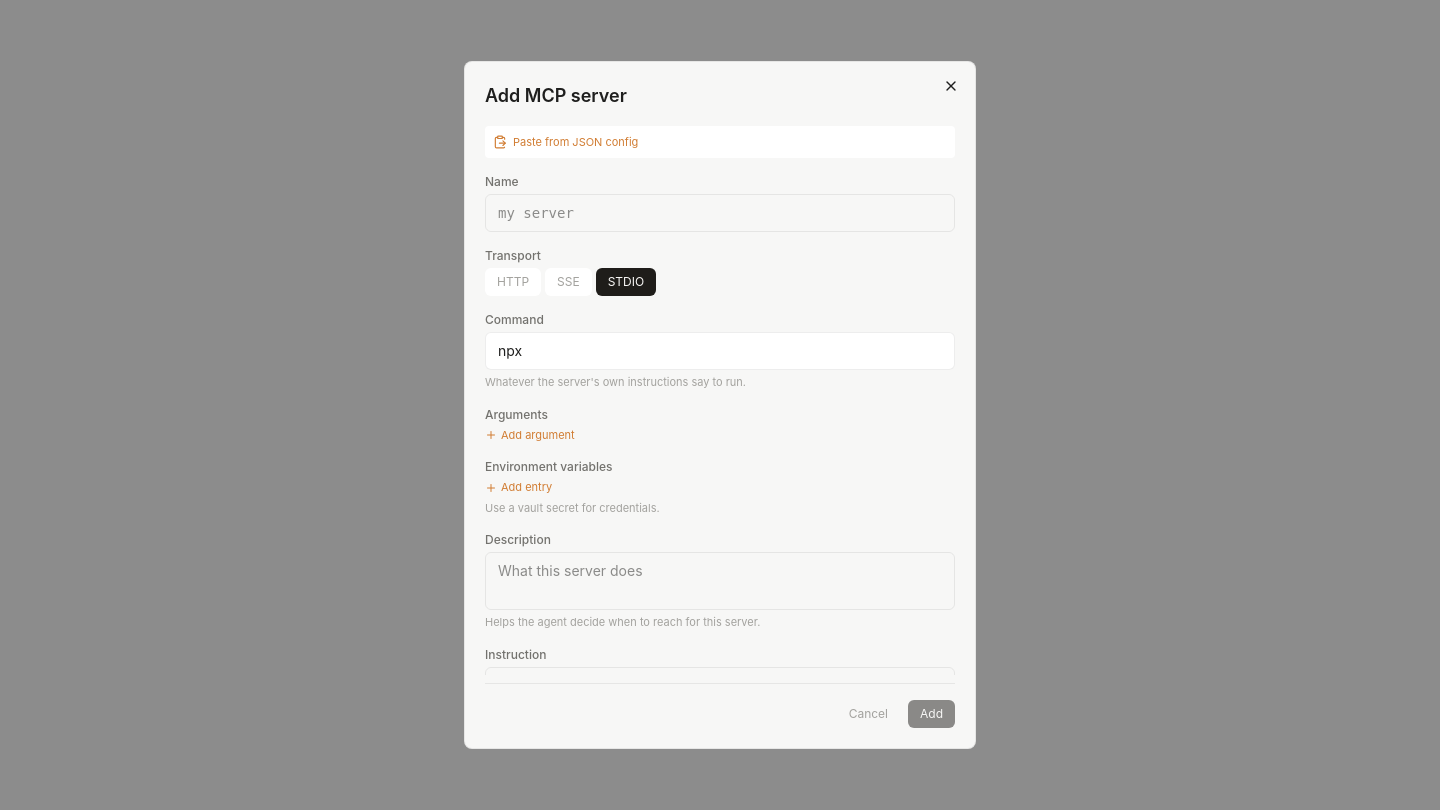
Test: McpServerModal — conditional fields per transport › switches to URL + Headers when transport is sse
Click the button "sse".
click(568, 282)  # box x1=545 y1=268 x2=592 y2=296
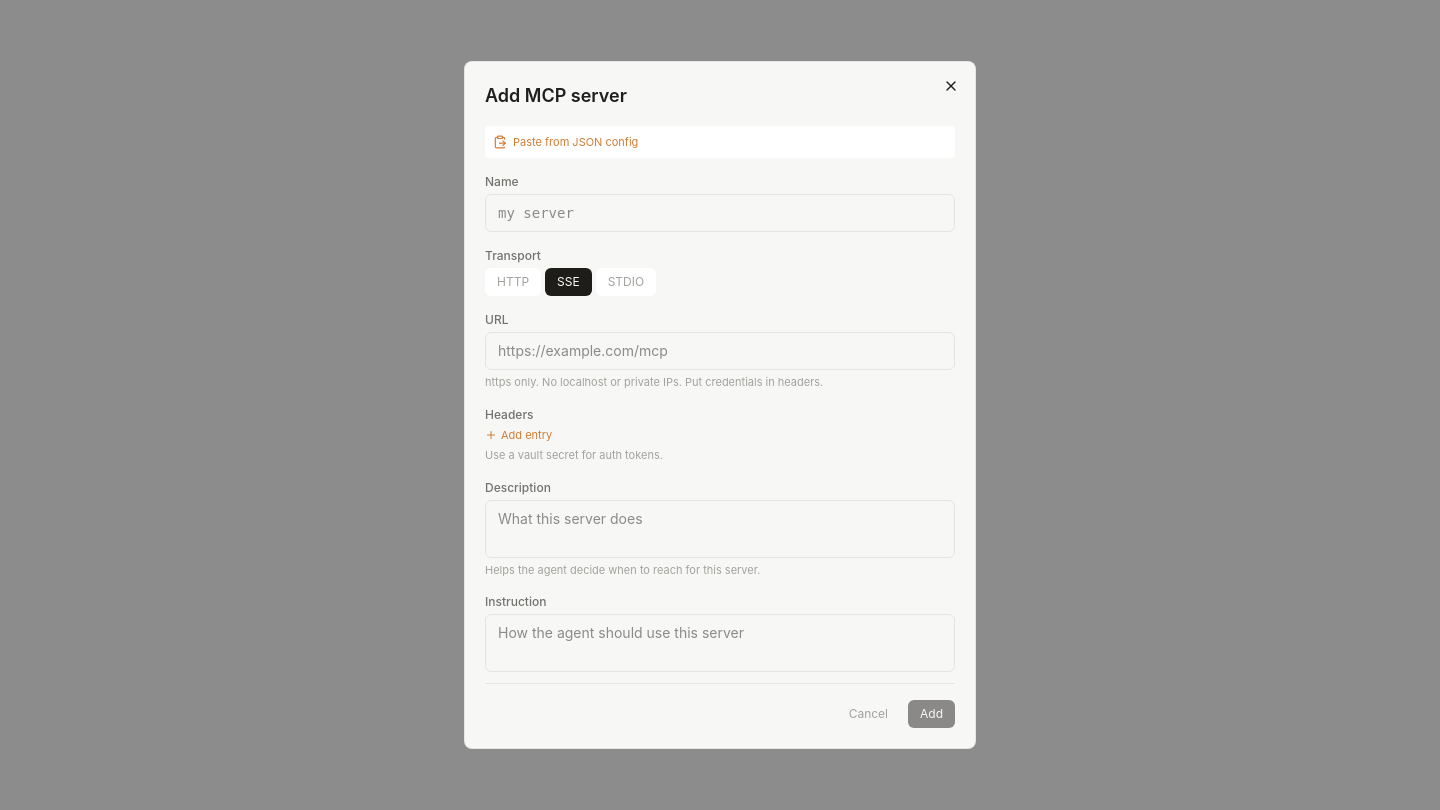
expect the text "URL" is shown: met, box x1=485 y1=312 x2=508 y2=327
expect the text "Headers" is shown: met, box x1=485 y1=407 x2=534 y2=422
